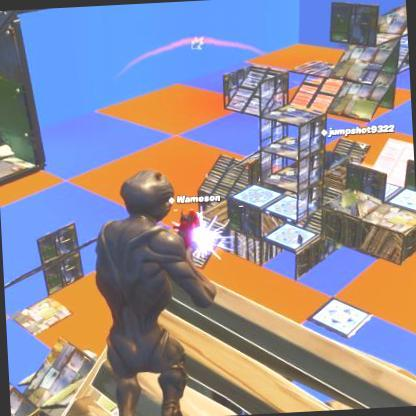person: (360, 151, 366, 162)
